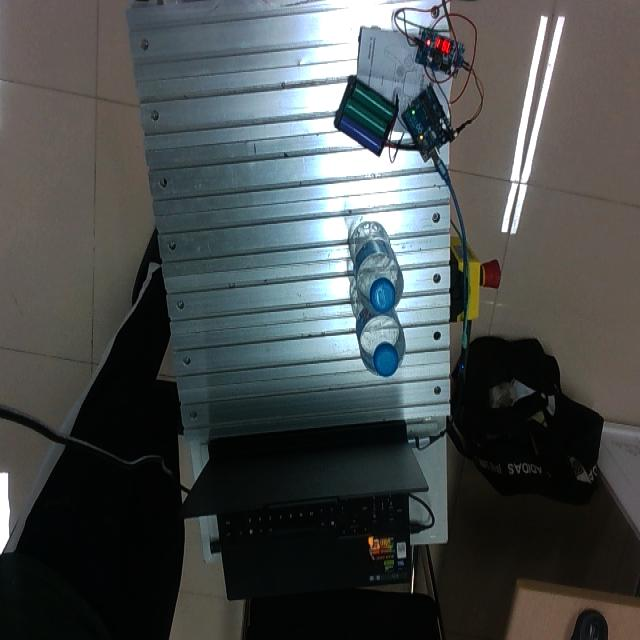lavie: (350, 277, 405, 379), (349, 222, 403, 318)
